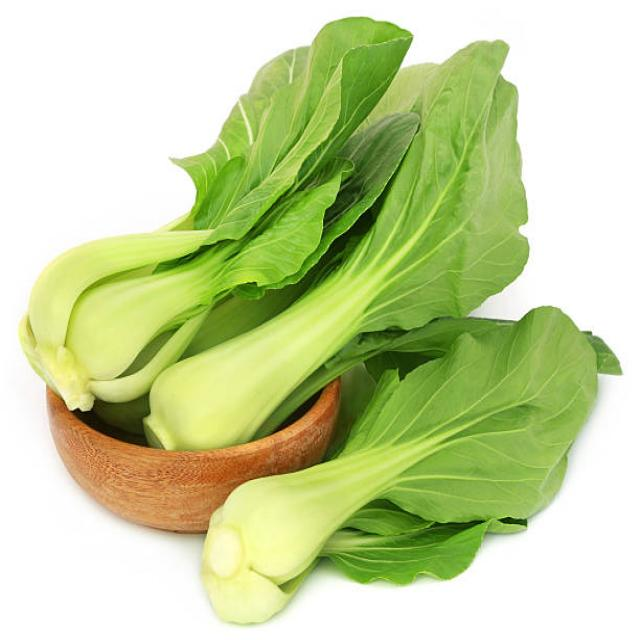Bok Choy: (332, 355, 640, 576), (3, 168, 288, 328)
